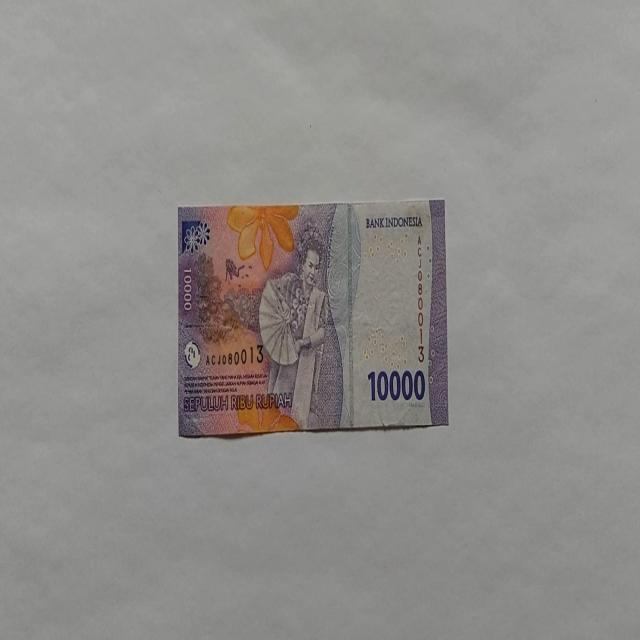sepuluh ribu rupiah: (176, 198, 448, 438)
